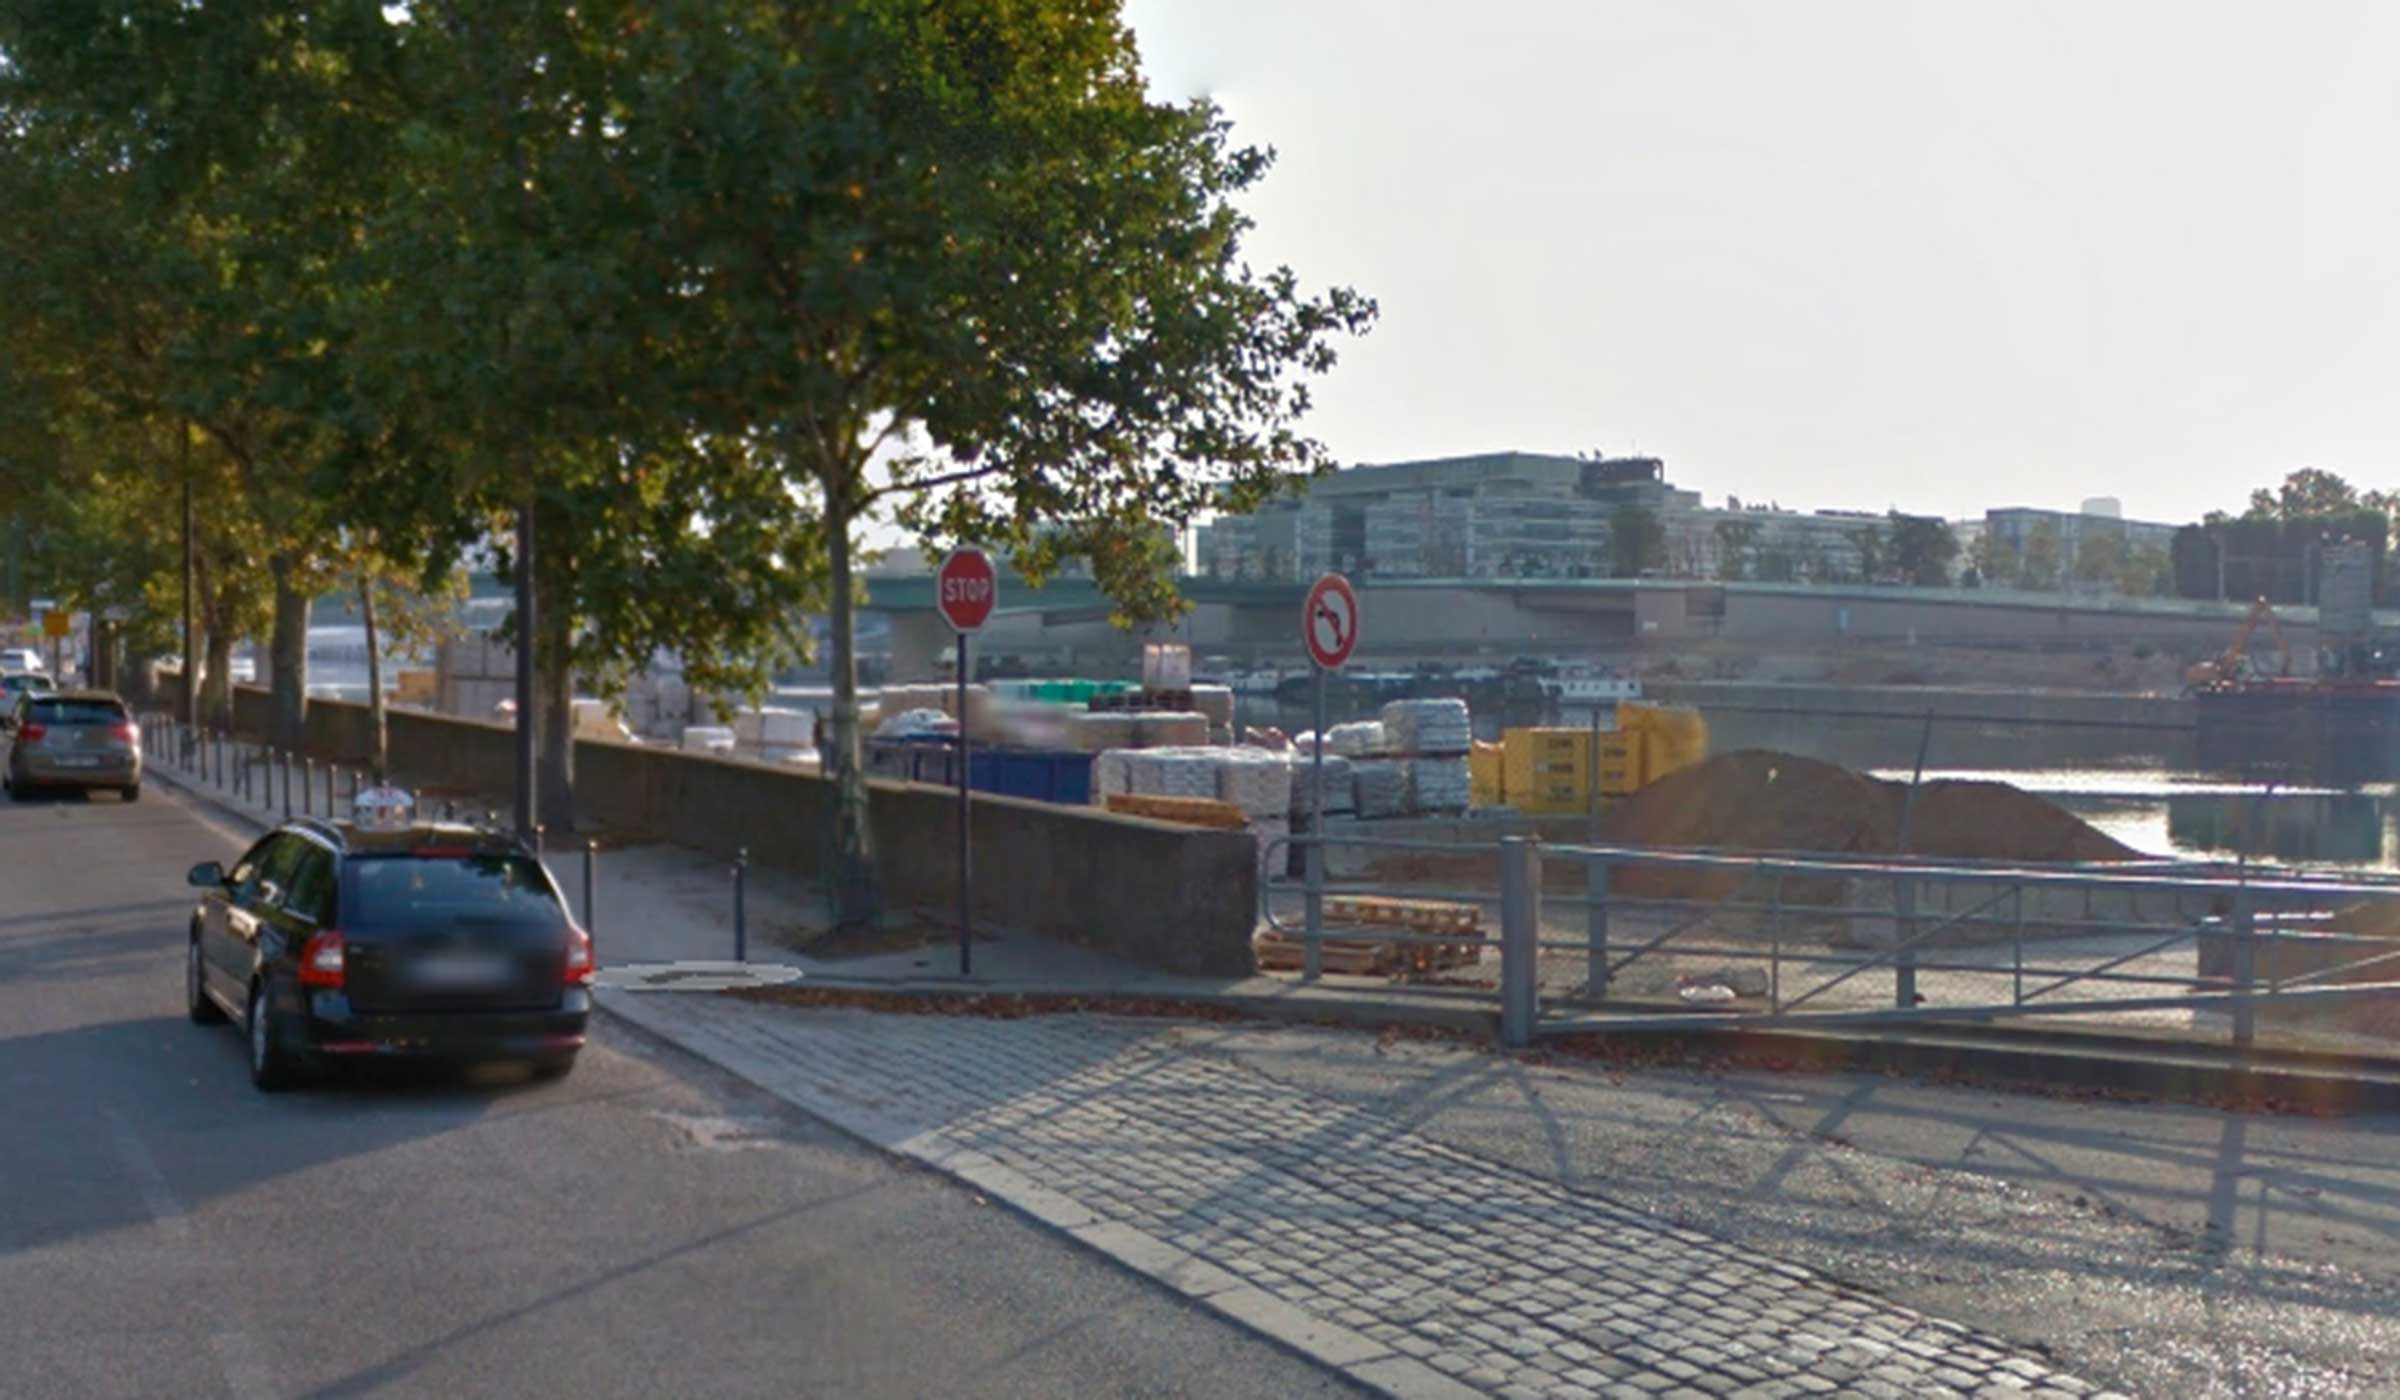noLeftTurn: (1298, 568, 1365, 668)
stop: (937, 543, 1003, 637)
